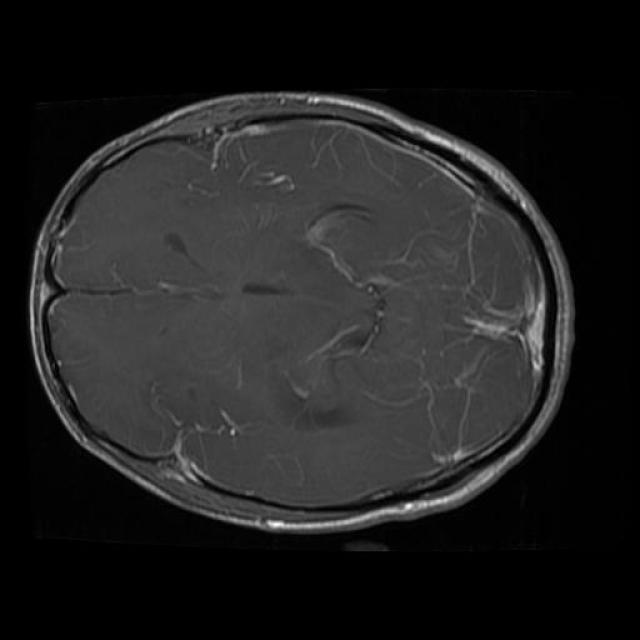Glioma: (148, 378, 241, 427)
